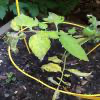Tomato Septoria leaf spot: (59, 30, 89, 62), (29, 28, 50, 63), (12, 12, 40, 28), (41, 10, 65, 27), (39, 64, 64, 74), (46, 29, 58, 39)
